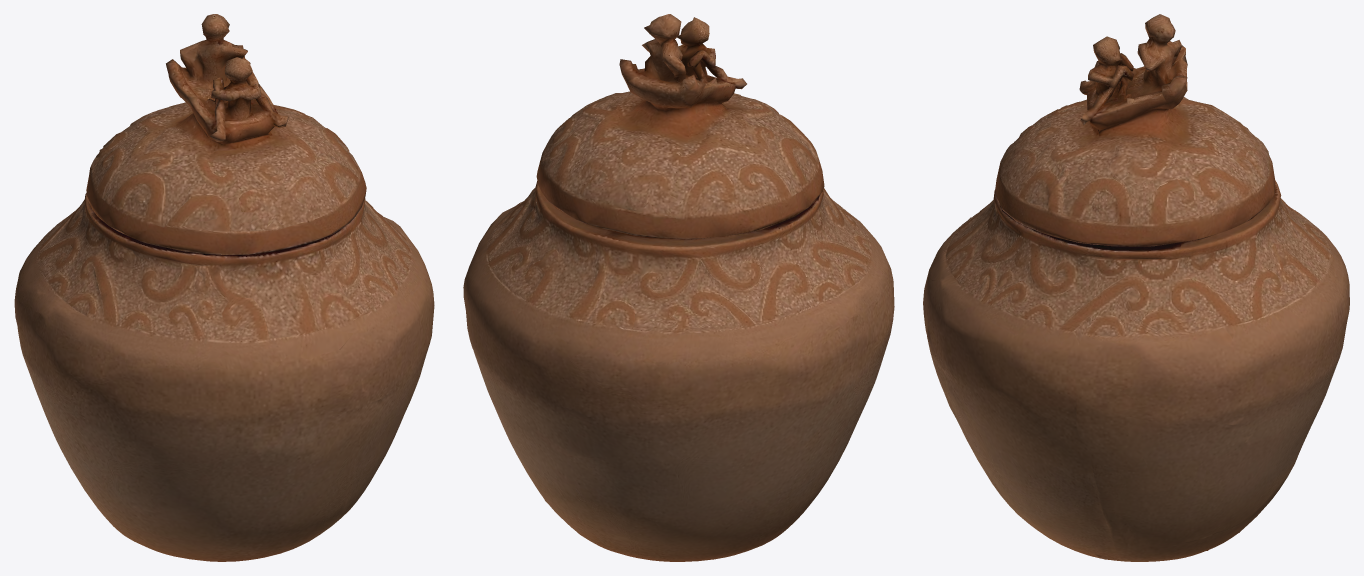
The model's file is Banga-512(10k).glb.
The picture shows the model from 3 angles, left to right: view 1: azimuth 30°, elevation 25°; view 2: azimuth 150°, elevation 25°; view 3: azimuth 270°, elevation 25°; orthographic projection. The views are drawn at different scales.
Visible parts, largest first — view 1: tripo_node_387d889e-c9a0-4065-97cd-8e2c5a5b9f5f; view 2: tripo_node_387d889e-c9a0-4065-97cd-8e2c5a5b9f5f; view 3: tripo_node_387d889e-c9a0-4065-97cd-8e2c5a5b9f5f.
Part boxes in pixels (x1,y1,x2,y2): tripo_node_387d889e-c9a0-4065-97cd-8e2c5a5b9f5f: (14, 14, 434, 561); tripo_node_387d889e-c9a0-4065-97cd-8e2c5a5b9f5f: (463, 14, 894, 561); tripo_node_387d889e-c9a0-4065-97cd-8e2c5a5b9f5f: (923, 14, 1349, 561).
Bounding box in the file's own units: 0.7374 × 0.9801 × 0.7441.
1 material, 1 textured.
